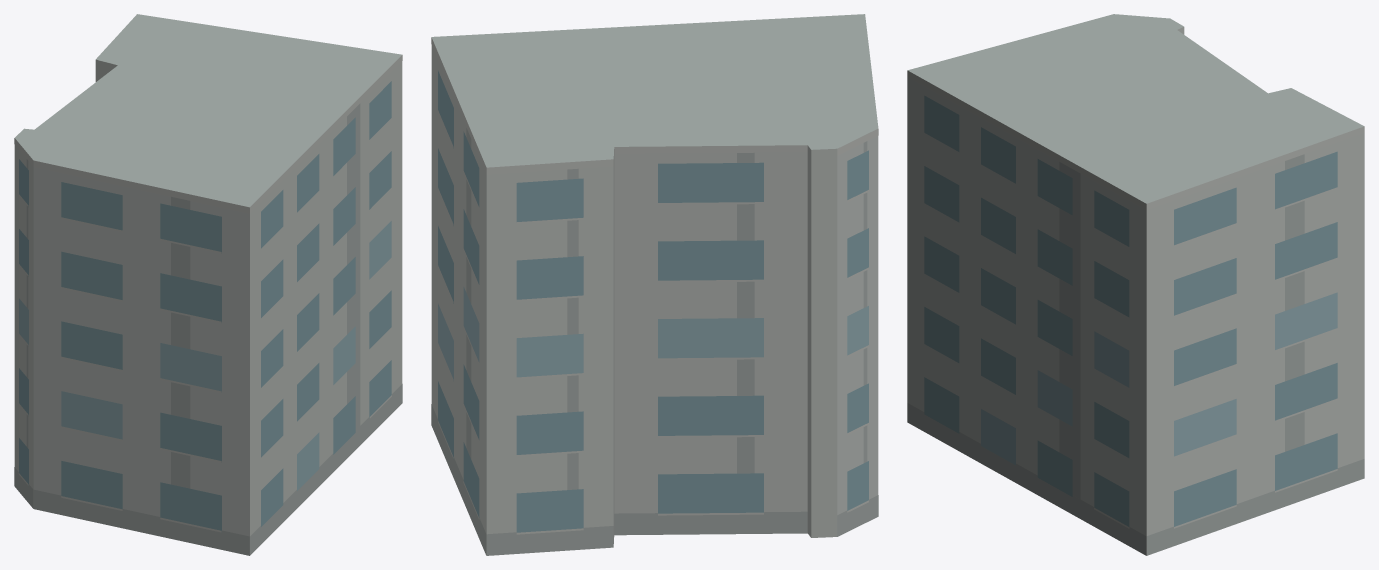
File: survey-upis-32947906.glb
The picture shows the model from 3 angles, left to right: view 1: azimuth 30°, elevation 25°; view 2: azimuth 150°, elevation 25°; view 3: azimuth 270°, elevation 25°; orthographic projection. The views are drawn at different scales.
Parts seen in each view (by area): view 1: survey-upis-32947906.tmp; view 2: survey-upis-32947906.tmp; view 3: survey-upis-32947906.tmp.
Part boxes in pixels (x1=…): survey-upis-32947906.tmp: x1=14, y1=14, x2=402, y2=555; survey-upis-32947906.tmp: x1=431, y1=14, x2=878, y2=555; survey-upis-32947906.tmp: x1=907, y1=14, x2=1364, y2=555.
Size of the model in its own units: 15.27 by 13.2 by 15.54.
